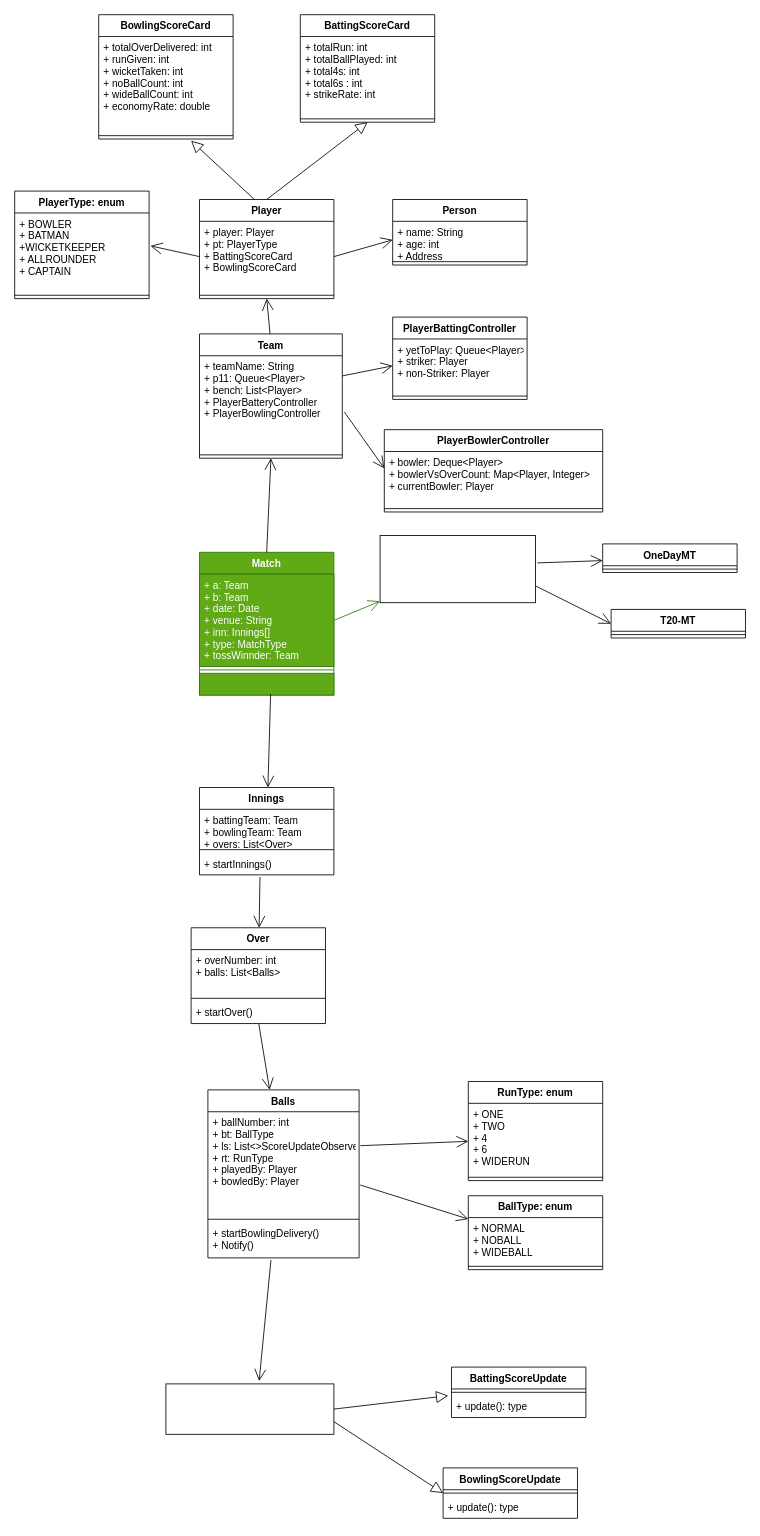
This 760x1536 diagram has some shape labels left out. The shapes that lost their labels are listed below. From the top down, each one's centre as x and y in pixels, then its label:
the point at 457,569: <<Interface>> MatchType + numberOfOvers() + maxOverAllowed()
the point at 266,683: + startMatch(): type
the point at 249,1408: <<Interface>> ScoreUpdateObserver
